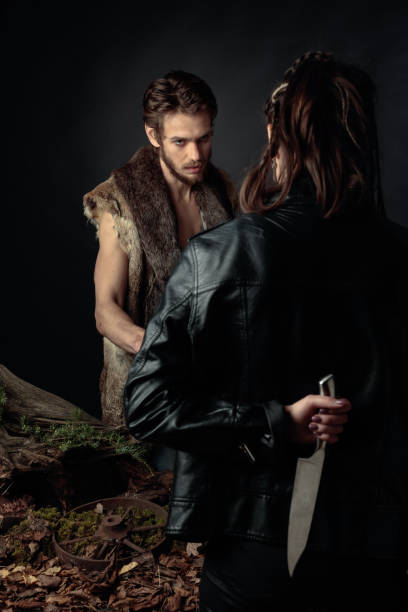knife: (285, 374, 338, 579)
